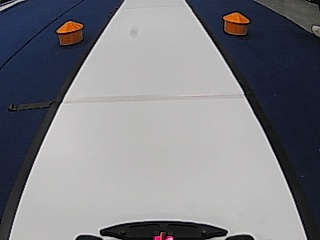granary: (221, 11, 250, 37), (55, 21, 84, 47)
